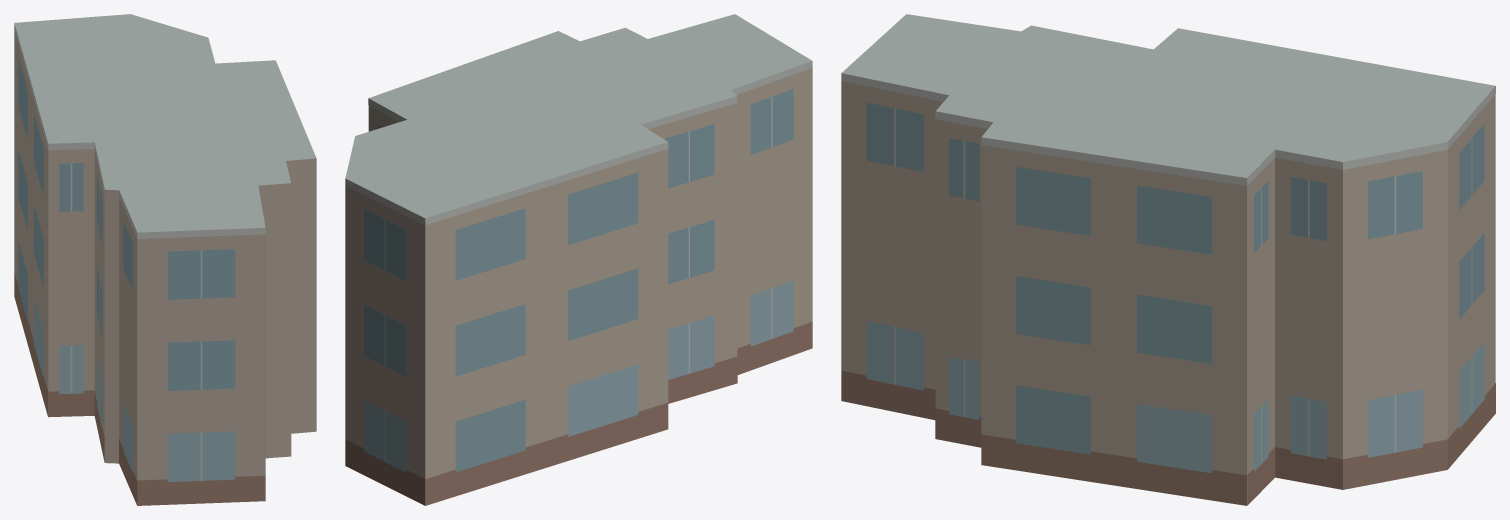
The model's file is survey-upis-33018174.glb.
3 views of the same model, side by side, from view 1: azimuth 30°, elevation 25°; view 2: azimuth 150°, elevation 25°; view 3: azimuth 270°, elevation 25° (orthographic). The views are drawn at different scales.
Parts seen in each view (by area): view 1: survey-upis-33018174.tmp; view 2: survey-upis-33018174.tmp; view 3: survey-upis-33018174.tmp.
Part boxes in pixels (box(x1,y1,x2,y2)): survey-upis-33018174.tmp: box(14, 14, 316, 505); survey-upis-33018174.tmp: box(345, 14, 812, 505); survey-upis-33018174.tmp: box(841, 14, 1495, 505).
Size of the model in its own units: 10.96 by 10.2 by 18.47.
